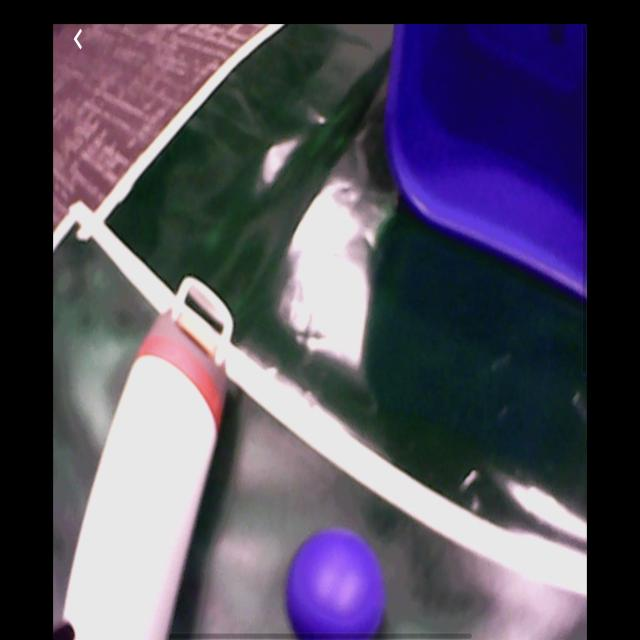ball: (285, 529, 388, 636)
